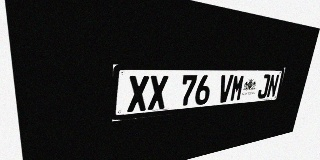6: (194, 75, 212, 105)
7: (179, 75, 197, 107)
J: (257, 74, 271, 99)
M: (229, 75, 245, 102)
N: (266, 74, 280, 98)
V: (217, 75, 234, 103)
X: (127, 76, 149, 112), (148, 75, 168, 110)
